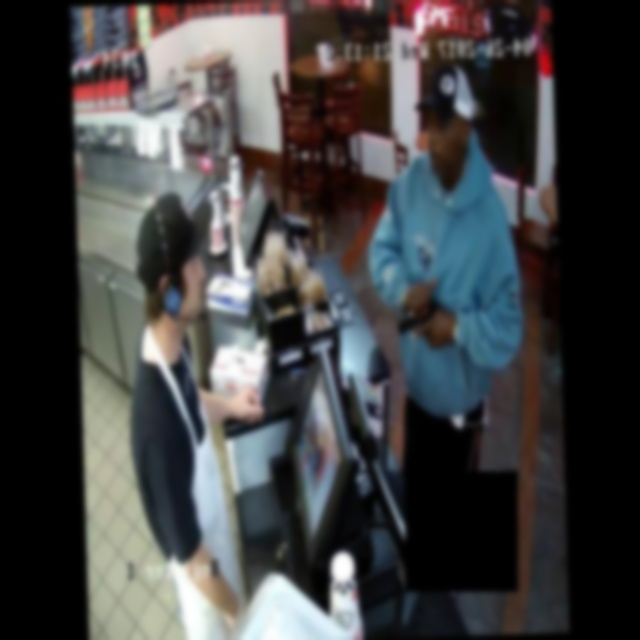gun: (387, 288, 454, 347)
